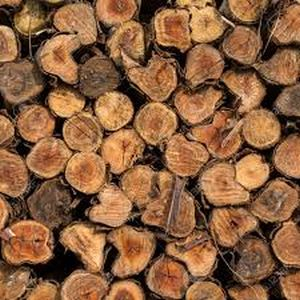log: (116, 164, 197, 241), (199, 147, 269, 207), (181, 109, 248, 163), (120, 54, 182, 108), (53, 218, 108, 276), (162, 229, 219, 278), (4, 220, 57, 270), (24, 177, 76, 227), (105, 226, 154, 279), (35, 31, 83, 85), (228, 235, 277, 286), (247, 176, 300, 221), (219, 65, 266, 115), (150, 5, 194, 58), (208, 205, 262, 247), (60, 148, 107, 196), (134, 101, 180, 150), (105, 17, 148, 69), (181, 42, 224, 93), (161, 132, 207, 178), (251, 47, 299, 91), (22, 134, 69, 178), (16, 98, 58, 146), (53, 1, 97, 46), (1, 59, 43, 105), (42, 78, 90, 118), (88, 184, 132, 227), (144, 255, 189, 297), (220, 25, 266, 66), (61, 111, 103, 155), (242, 107, 282, 153), (93, 91, 135, 133), (78, 54, 119, 95), (187, 6, 227, 47), (1, 148, 33, 199), (270, 218, 300, 271), (61, 266, 107, 300), (270, 133, 300, 181), (268, 3, 300, 45), (225, 1, 269, 27), (105, 274, 143, 300)
